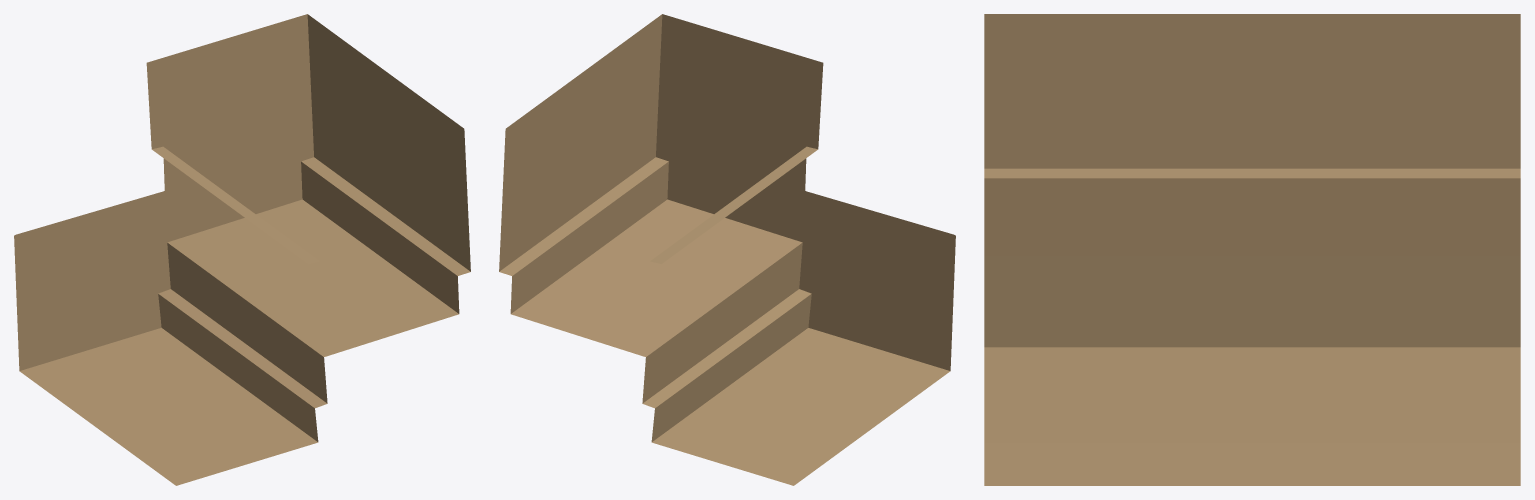
3 renders of one model, left to right at view 1: azimuth 30°, elevation 25°; view 2: azimuth 150°, elevation 25°; view 3: azimuth 270°, elevation 25°, orthographic. The views are drawn at different scales.
Visible parts, largest first — view 1: 0_3_0_1_2_1_2_1_0; view 2: 0_3_0_1_2_1_2_1_0; view 3: 0_3_0_1_2_1_2_1_0.
Part boxes in pixels (box(x1,y1,x2,y2)): 0_3_0_1_2_1_2_1_0: box(14, 14, 470, 485); 0_3_0_1_2_1_2_1_0: box(499, 14, 955, 485); 0_3_0_1_2_1_2_1_0: box(984, 14, 1520, 485).
Bounding box in the file's own units: 29.83 × 27.25 × 27.
